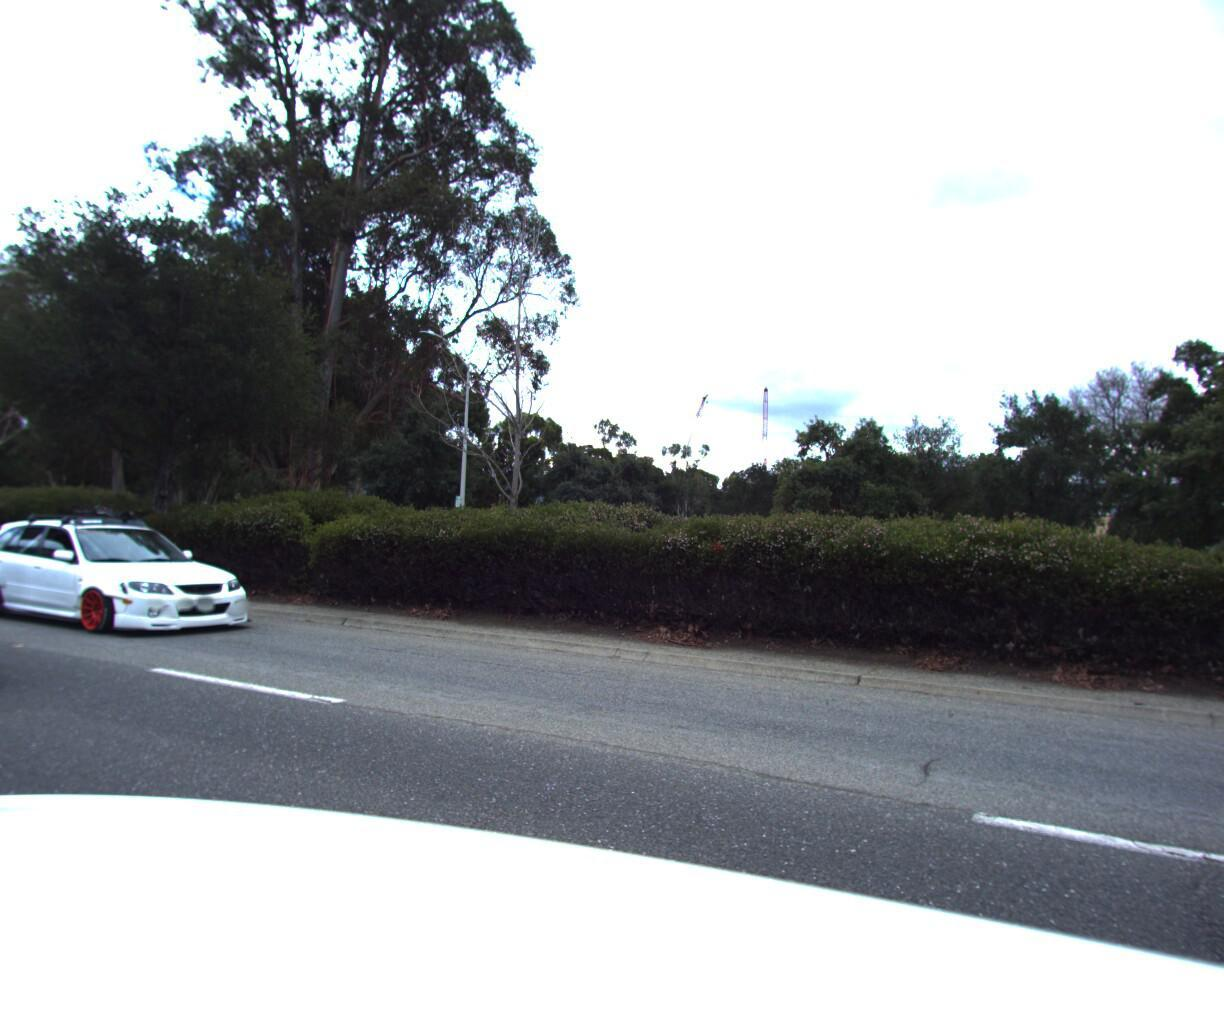car: (0, 490, 280, 637), (0, 480, 34, 734)
